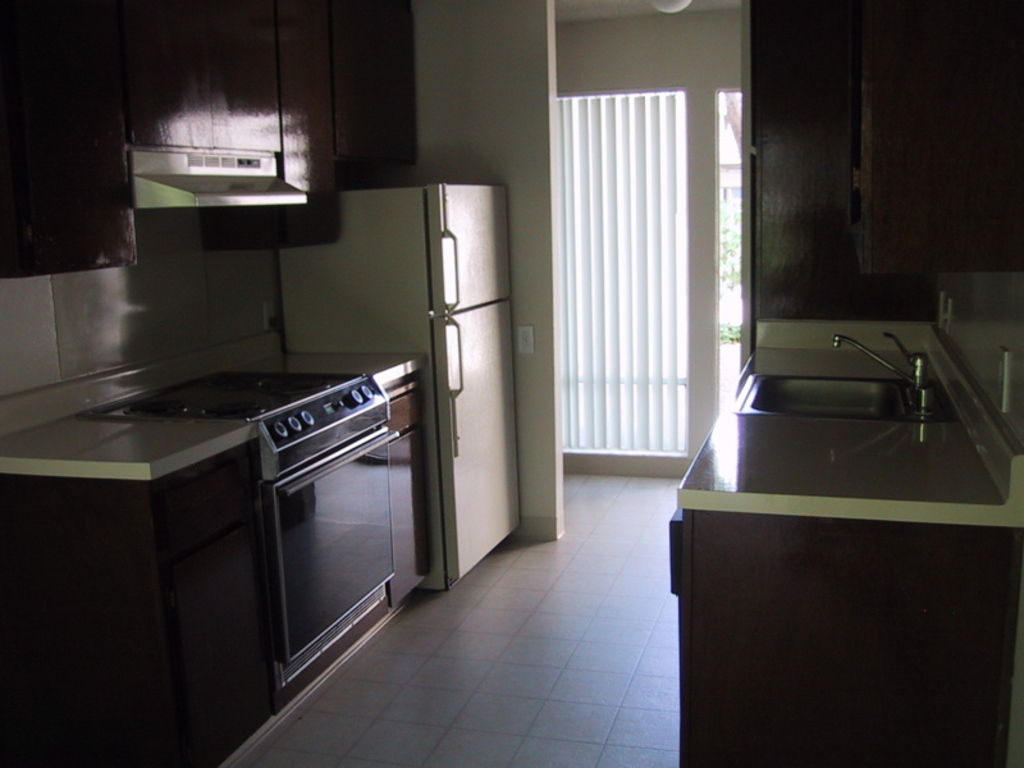cabinet door: (169, 535, 260, 741), (395, 430, 436, 591), (152, 475, 254, 528), (382, 393, 426, 434)
handle: (434, 231, 465, 314), (438, 314, 463, 396)
refrigerator door: (438, 304, 516, 550), (436, 188, 510, 304)
